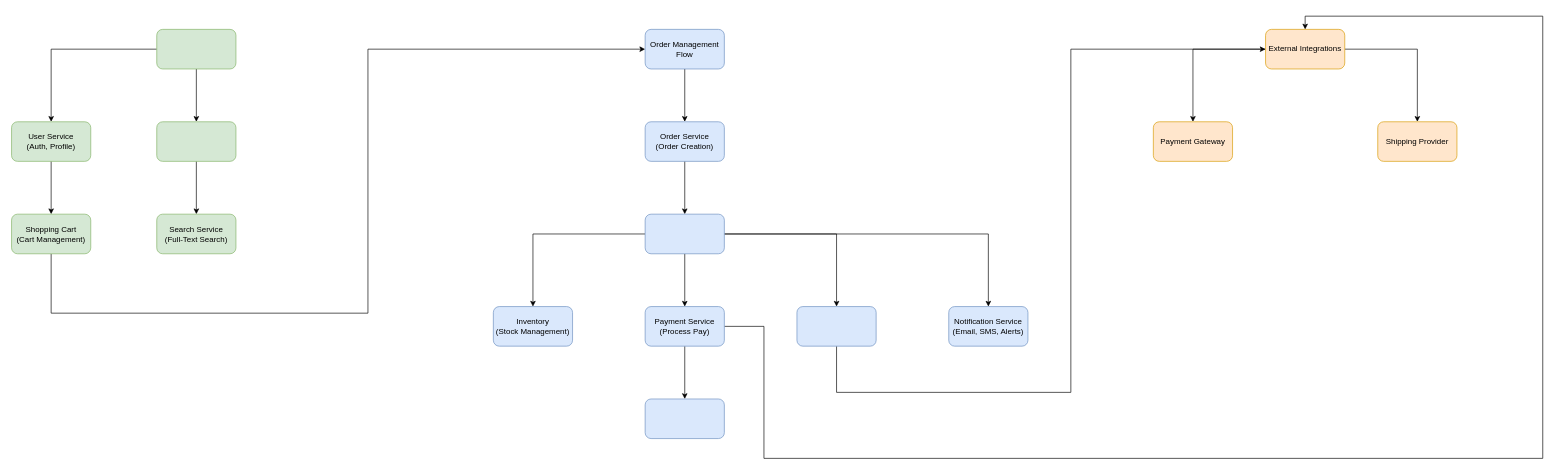
This 1560x475 diagram has some shape labels left out. Each missing label, with the centre of its shape:
"API Gateway (Auth, Request Routing)" goes at [196,49].
"Event Bus" goes at [684,234].
"Product Catalog (Product Listings)" goes at [196,141].
"Review Service (Ratings, Feedbacks)" goes at [684,418].
"Shipping Service (Process Pay)" goes at [836,326].
